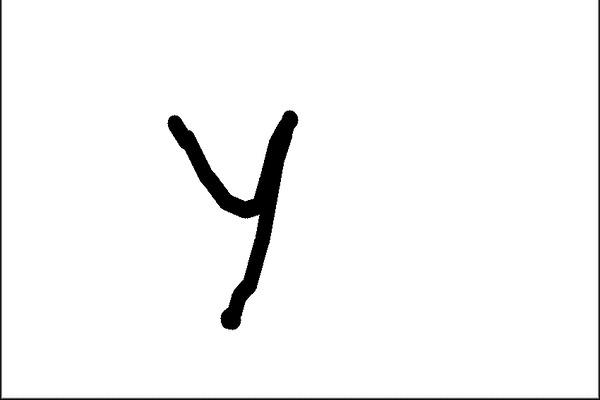Y: (154, 100, 317, 349)
